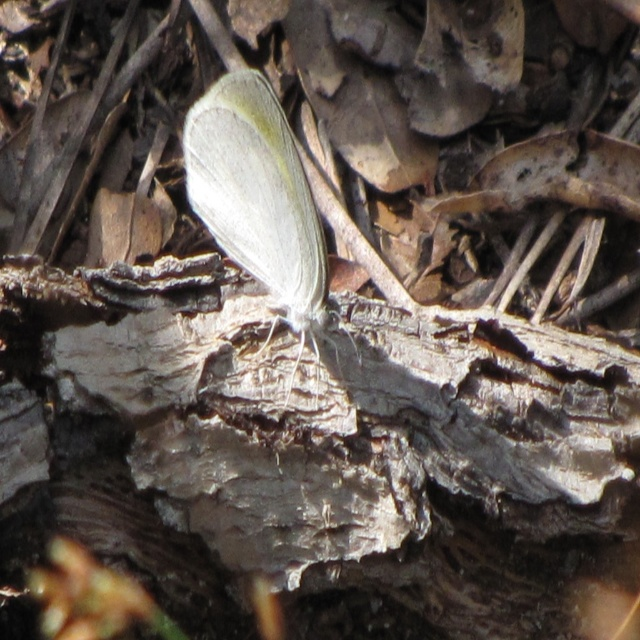Butterfly: (178, 58, 344, 386)
